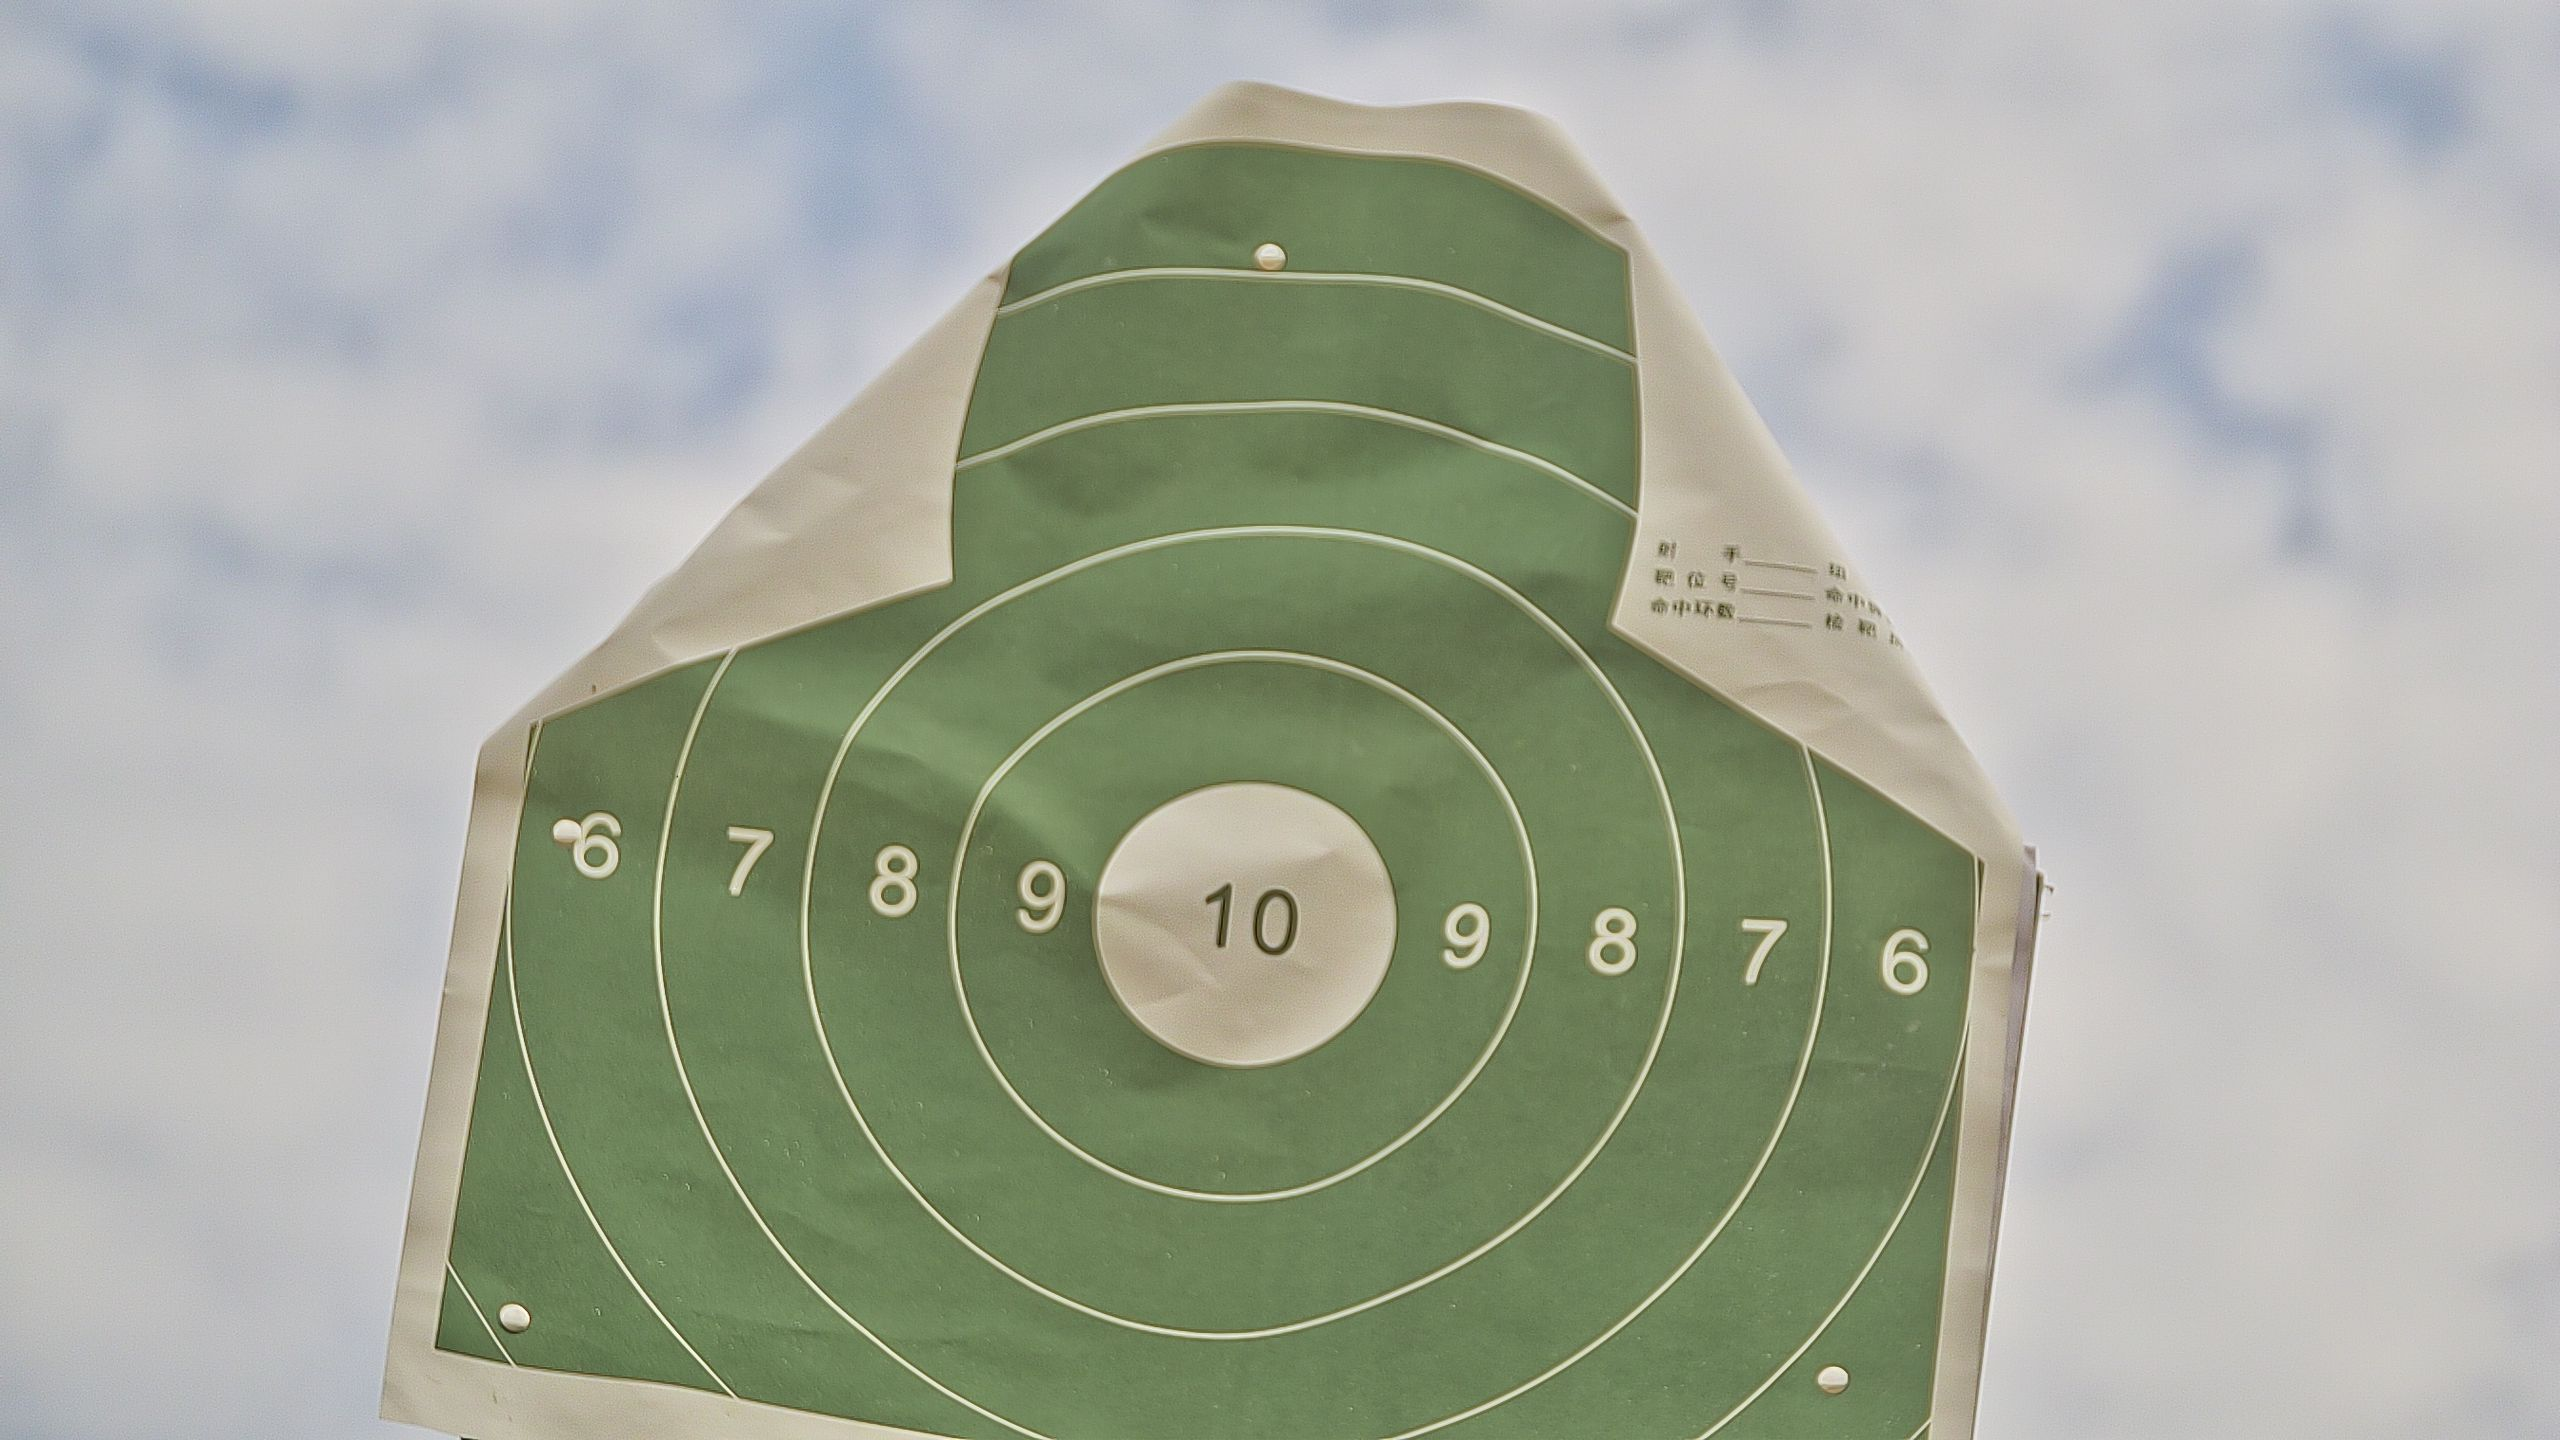kernel: (1240, 918, 1245, 921)
target: (422, 139, 1990, 1440)
ten: (1094, 777, 1398, 1067)
